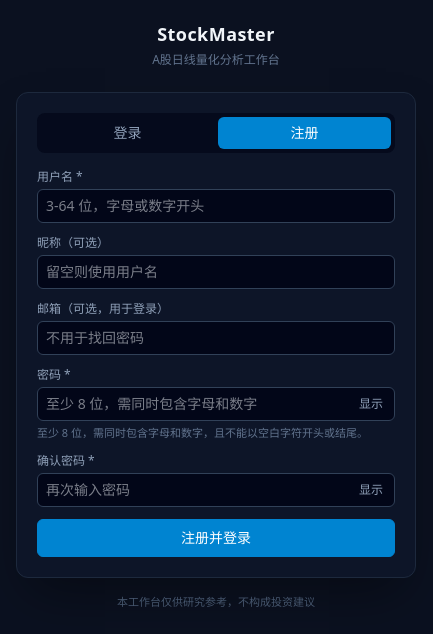
it: 注册表单校验 › 密码以空白开头时提示规则
In the field labelled "用户名 *": [216, 206] box [37,188,395,222], type "alice"
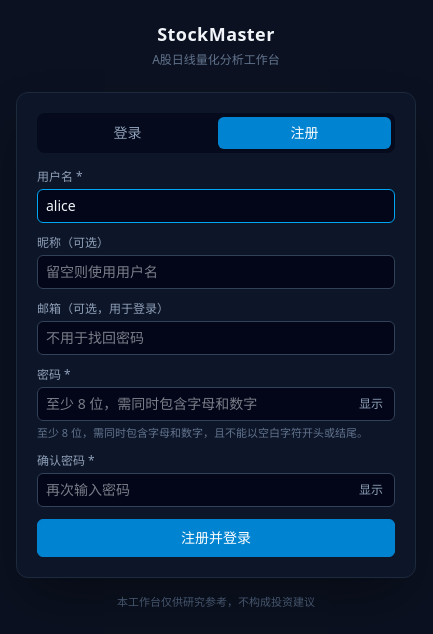
In the password field labelled "密码 *": [216, 404] box [37,386,395,420], type " pw123456"
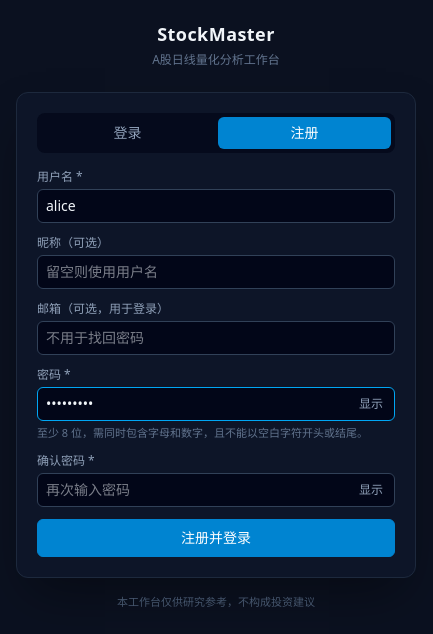
In the password field labelled "确认密码 *": [216, 490] box [37,473,395,507], type " pw123456"
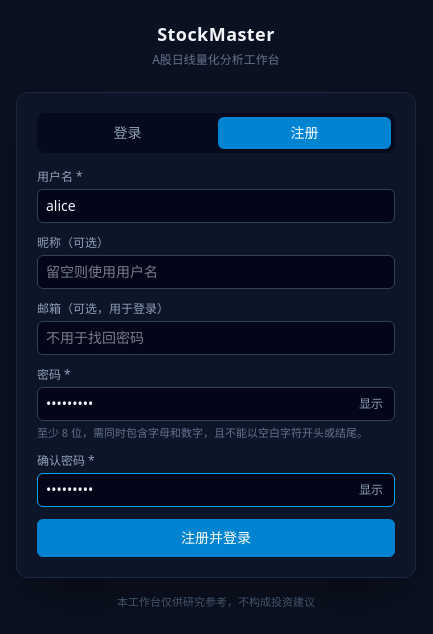
Click the button "注册并登录": [216, 538] box [37,519,395,557]
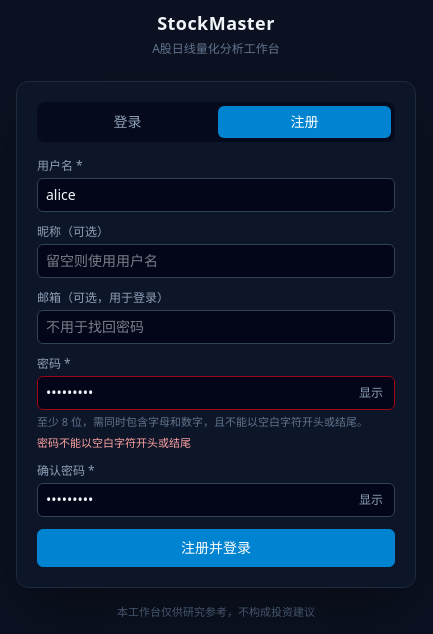
Check: the text "密码不能以空白字符开头或结尾" is shown, box [37,435,191,450]
